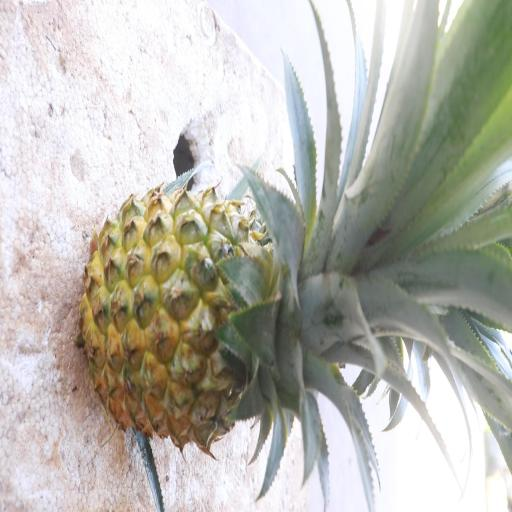Pineapple - v8 v1: (77, 174, 393, 458)
